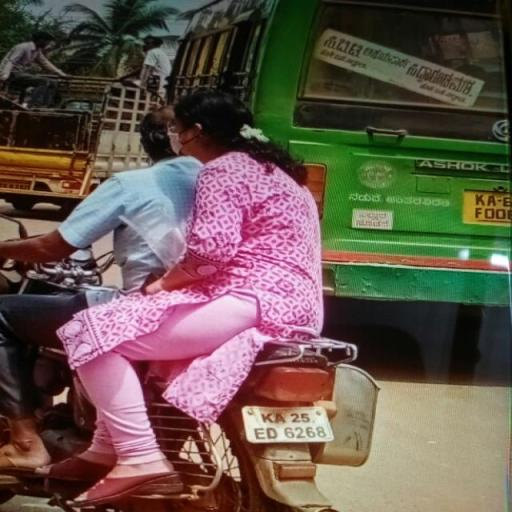bike: (0, 82, 378, 511)
numberplate: (246, 405, 334, 443)
withouthelmet: (179, 91, 246, 148), (142, 113, 172, 164)
